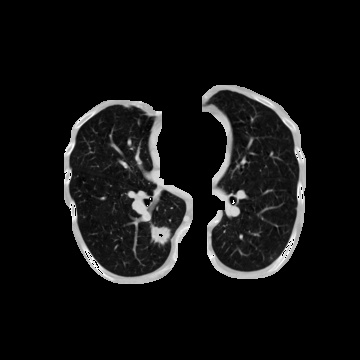PN: (151, 225, 169, 243)
